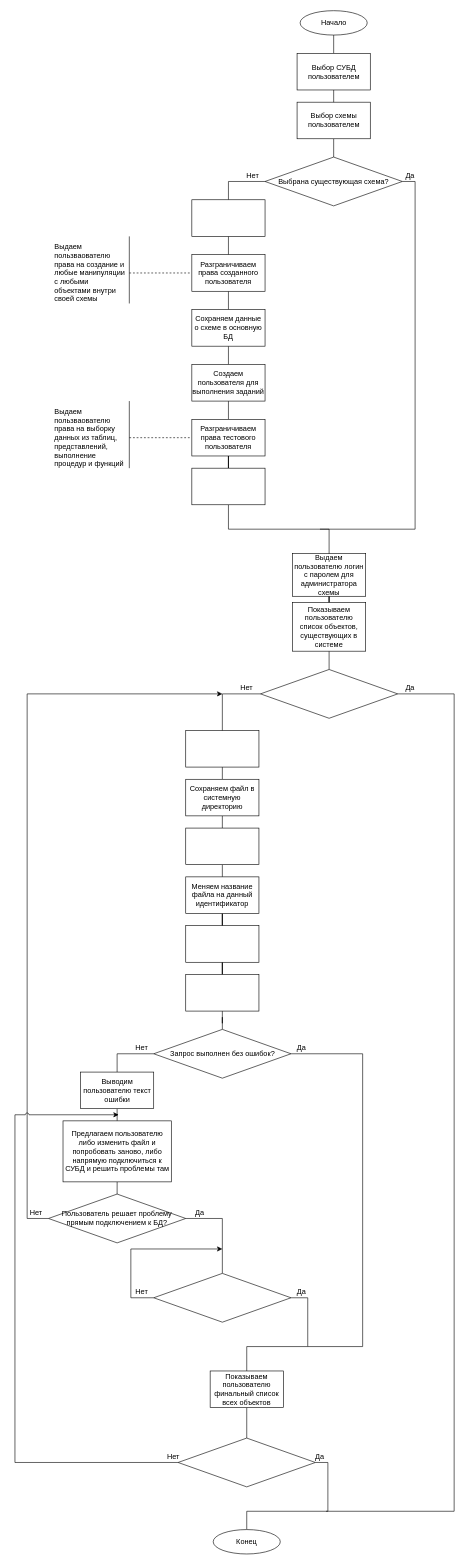
This 465x1565 diagram has some shape labels left out. Here are the shapes that lost their labels. From the top down, the centre of each, then its label:
At point 228,217: "Создаем пользователя со схемой данных".
At point 228,486: "Сохраняем данные о тестовом пользователе в основную БД".
At point 329,693: "Пользователю достаточно объектов в схеме".
At point 222,748: "Пользователь загружает sql файл с объектами в систему".
At point 222,846: "Присваиваем файлу уникальный идентификатор".
At point 222,943: "Записываем данный идентификатор в БД".
At point 222,992: "Запуск скриптов из файла".
At point 222,1297: "Пользователь изменил/создал все необходимые объекты?".
At point 246,1462: "Пользователя устраивают все объекты?".
